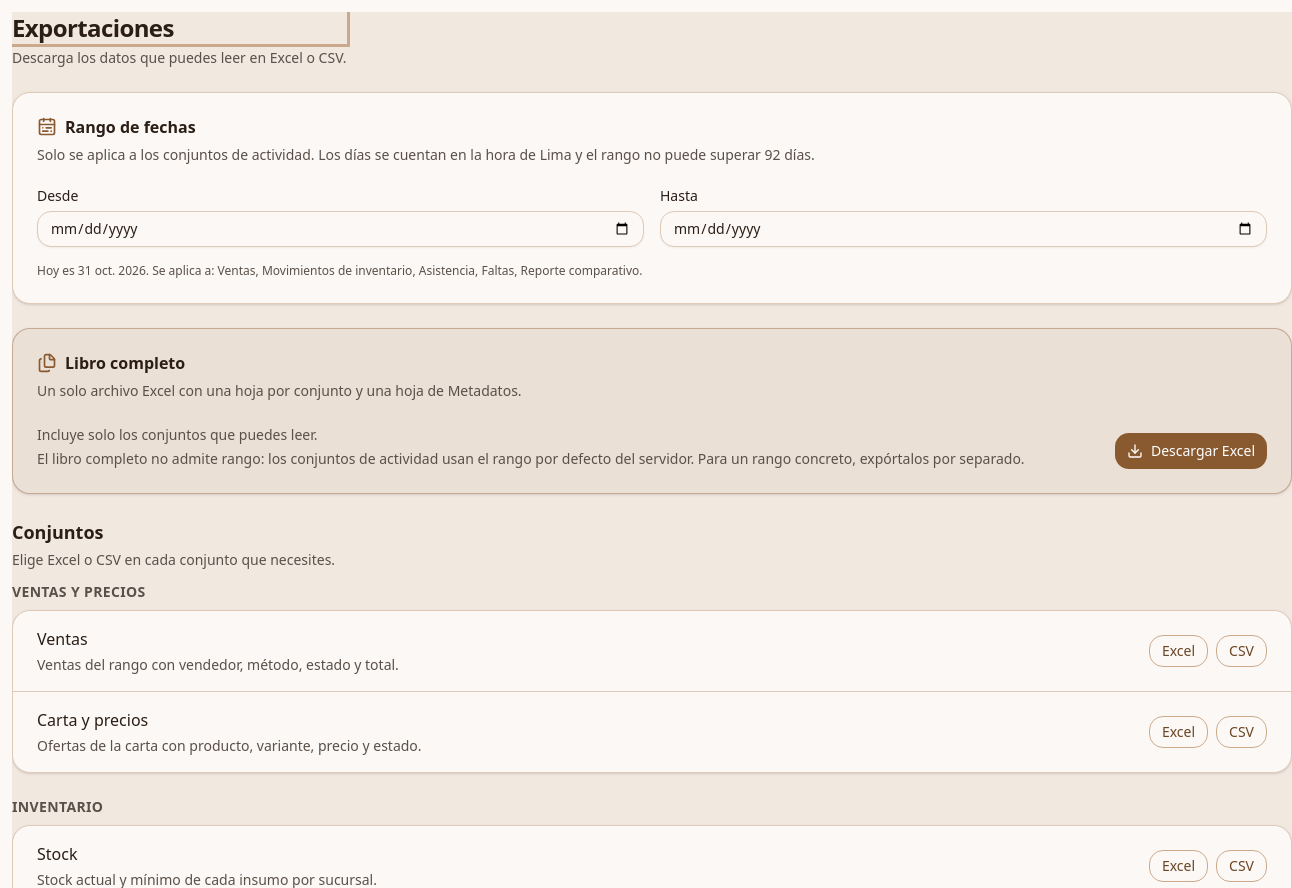
ExportacionesPage: descarga y libro completo › descarga el libro completo sin enviar filtros y avisa que no admite rango
The image size is (1292, 888).
Expected: the heading "Exportaciones" is shown, x1=12 y1=12 x2=347 y2=44
Expected: the text "El libro completo no admite rango" is shown, x1=37 y1=449 x2=1025 y2=468
Click the button with aria-label "Generar libro completo en Excel": (1191, 451) x1=1115 y1=433 x2=1267 y2=469
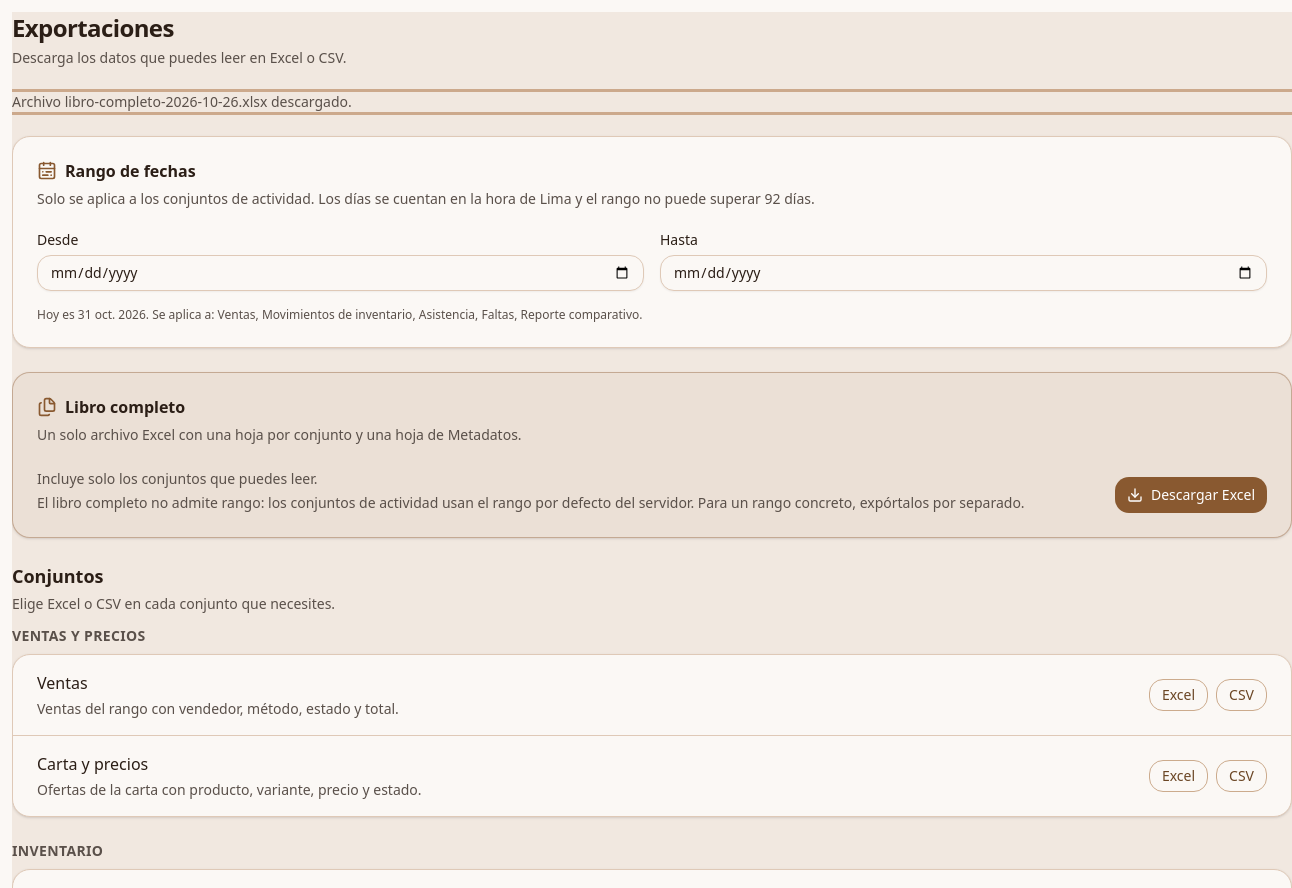
Expected: the text "Archivo libro-completo-2026-10-26.xlsx descargado." is shown, x1=12 y1=92 x2=1291 y2=112
